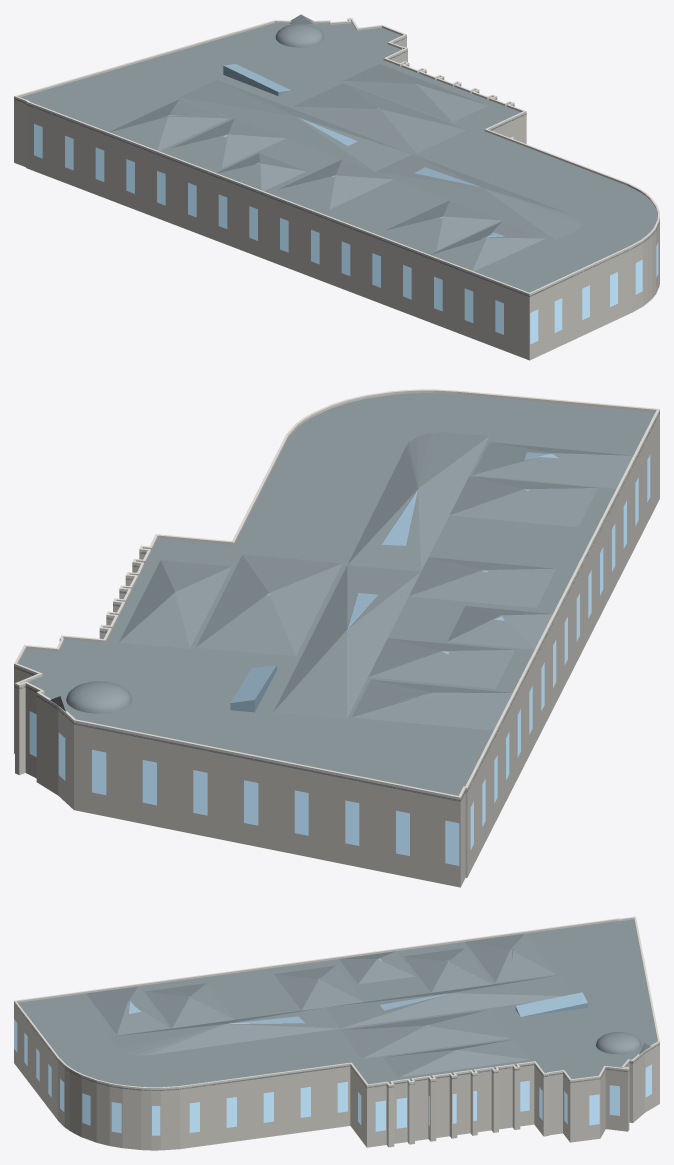
3 renders of one model, top to bottom at view 1: azimuth 30°, elevation 25°; view 2: azimuth 150°, elevation 25°; view 3: azimuth 270°, elevation 25°, orthographic. The views are drawn at different scales.
Visible parts, largest first — view 1: roof, stone, window, trim, metal; view 2: roof, stone, window, trim, metal; view 3: roof, stone, window, trim, metal.
Part boxes in pixels (x1,y1,x2,y2): roof: (14,14,659,296); stone: (14,38,659,360); window: (34,124,658,344); trim: (14,18,659,296); metal: (223,63,504,239); roof: (14,393,659,801); stone: (14,414,659,887); window: (29,455,650,865); trim: (14,389,659,801); metal: (175,452,558,712); roof: (15,919,659,1090); stone: (14,1004,659,1150); window: (14,1019,651,1135); trim: (14,916,659,1090); metal: (129,958,587,1025).
Size of the model in its own units: 74.39 by 14 by 118.
